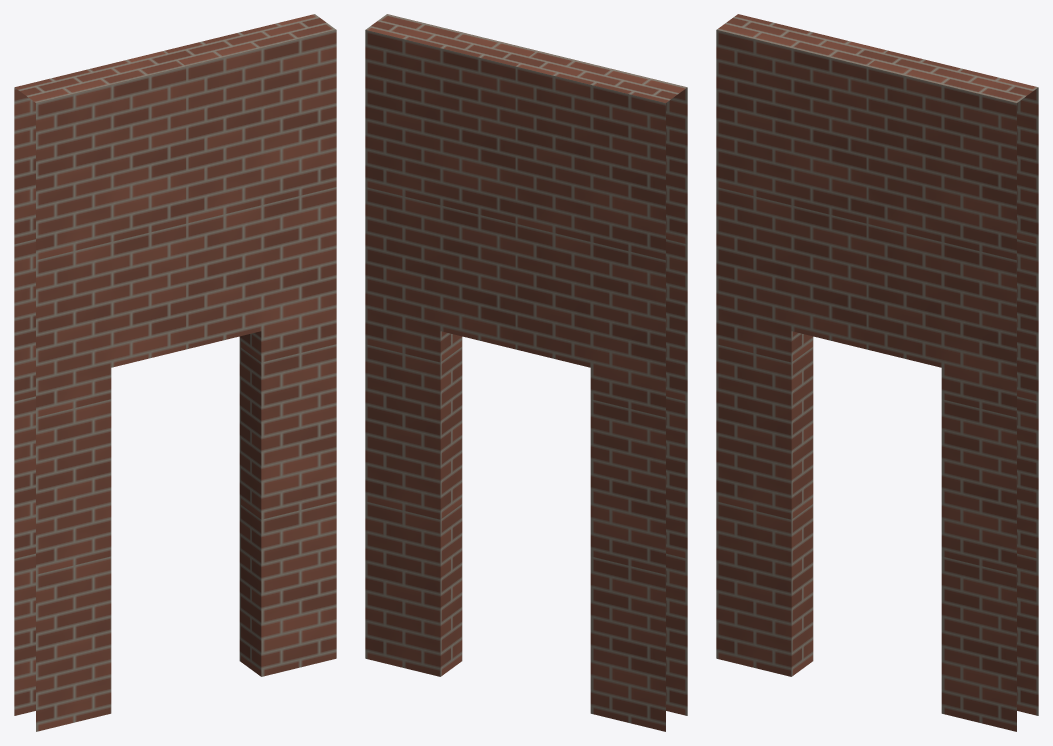
File: wall_doorway_brick.fbx
3 views of the same model, side by side, from view 1: azimuth 30°, elevation 25°; view 2: azimuth 150°, elevation 25°; view 3: azimuth 330°, elevation 25° (orthographic).
Parts seen in each view (by area): view 1: wall_doorway_brick; view 2: wall_doorway_brick; view 3: wall_doorway_brick.
Boxes of the visible parts, x1,y1,x2,y2 form: wall_doorway_brick: [14, 14, 336, 731]; wall_doorway_brick: [365, 14, 687, 731]; wall_doorway_brick: [716, 14, 1038, 731].
Size of the model in its own units: 2 by 4 by 0.25.
Materials: 1 (1 with a texture image).
